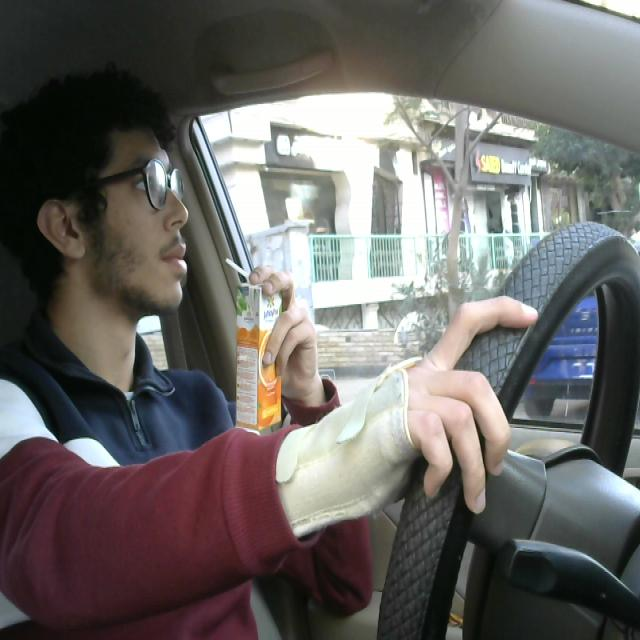drinking: (222, 252, 286, 435)
